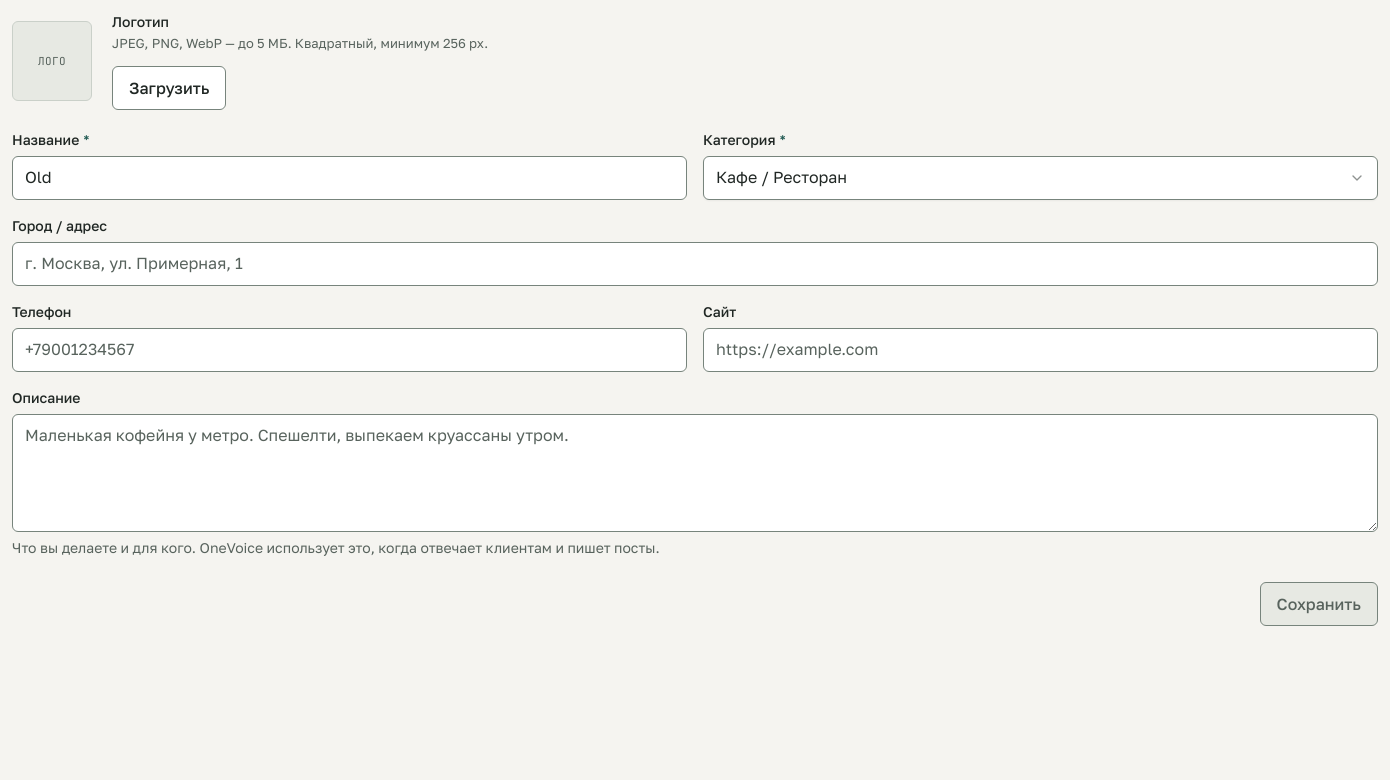
Test: announces saving only after a successful response and clears stale confirmation on edit
Replace the text in the field labelled "Название*" with "Updated": [350, 178] box left=12, top=156, right=687, bottom=200
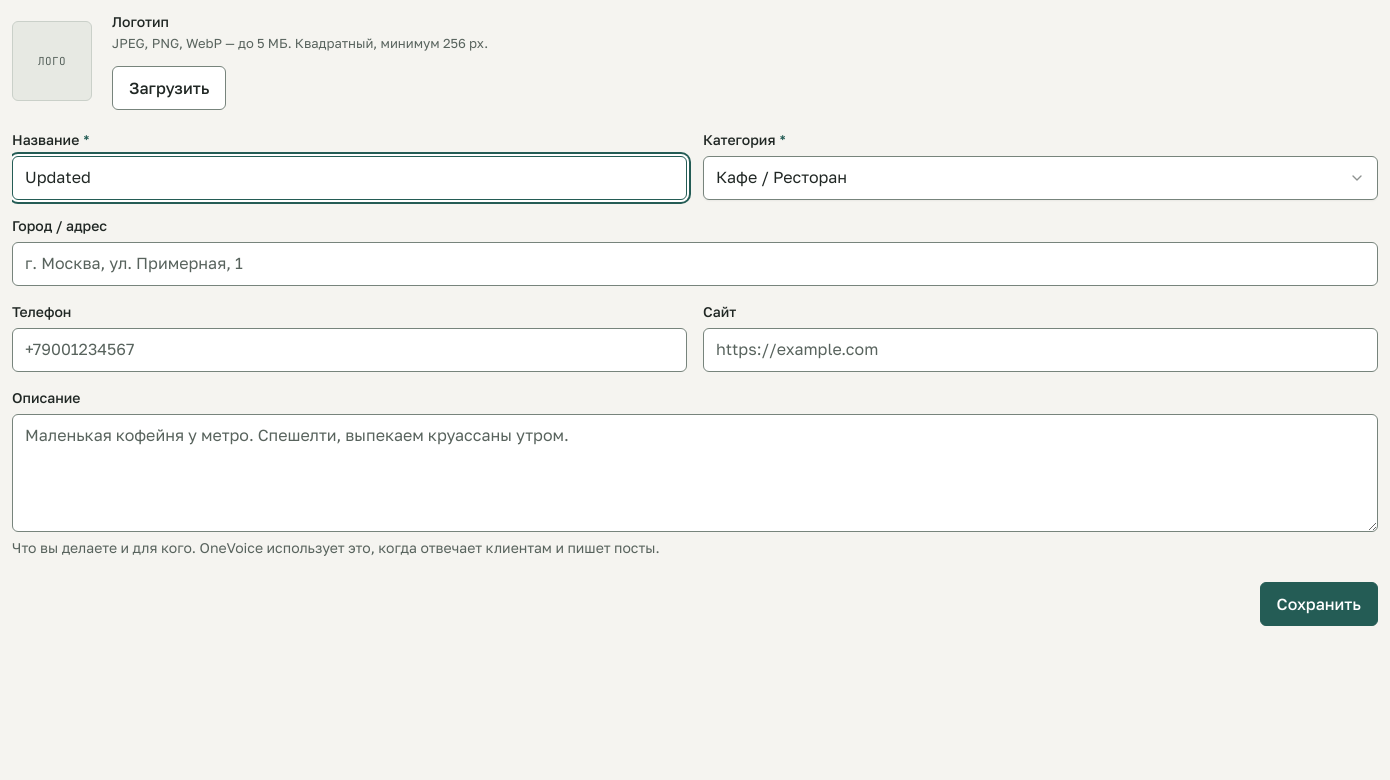
Click the button "Сохранить": [1319, 604] box left=1260, top=582, right=1378, bottom=626
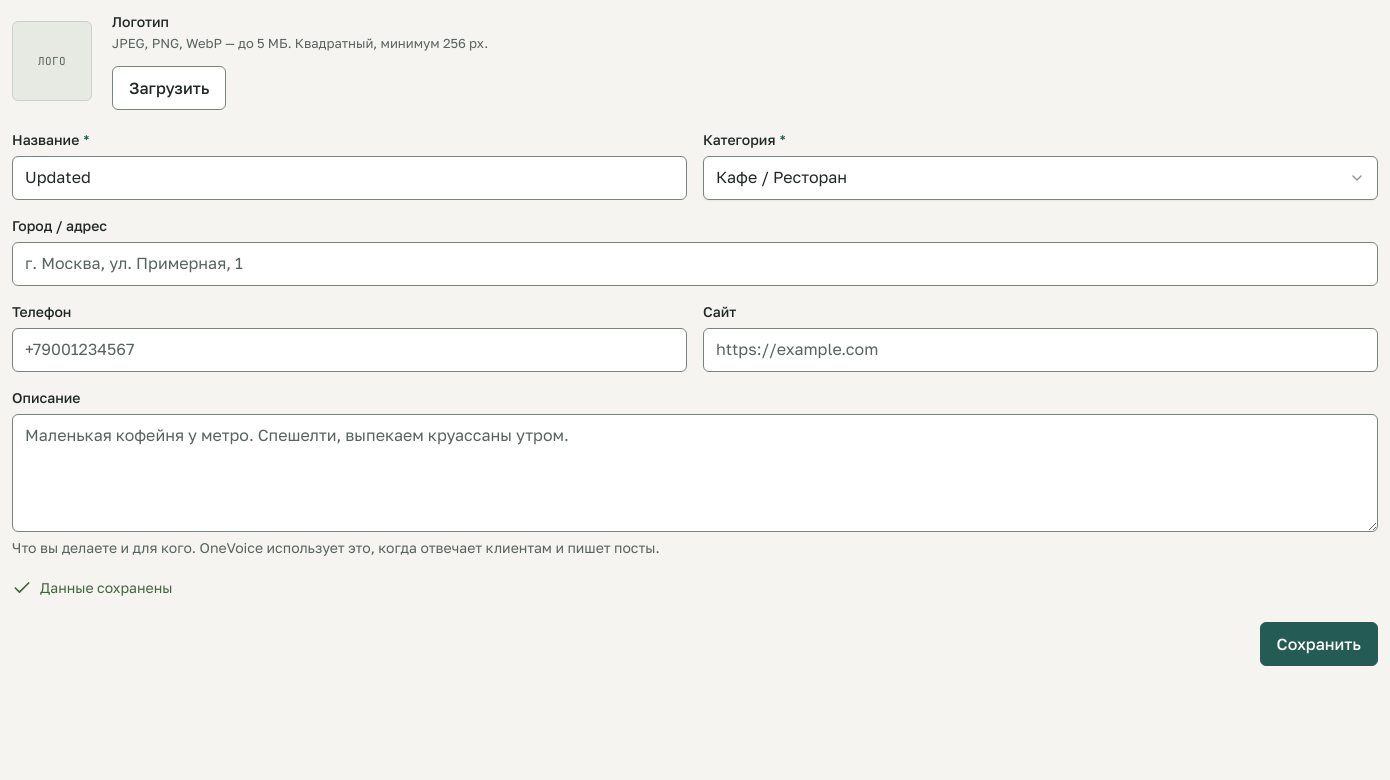
Now the message reads "Данные сохранены", box left=40, top=578, right=172, bottom=596
In the field labelled "Название*": [350, 178] box left=12, top=156, right=687, bottom=200, type " draft"
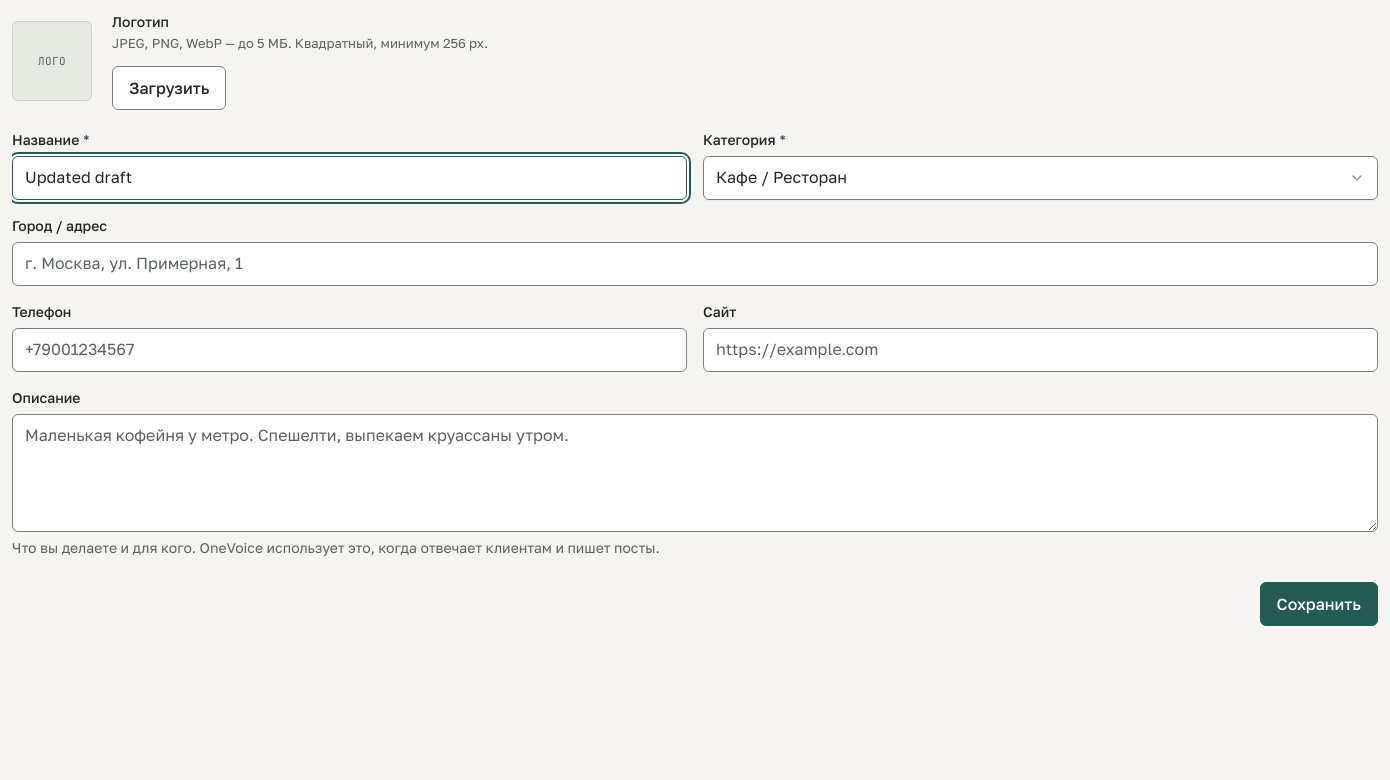
Now the message "Данные сохранены" is gone
